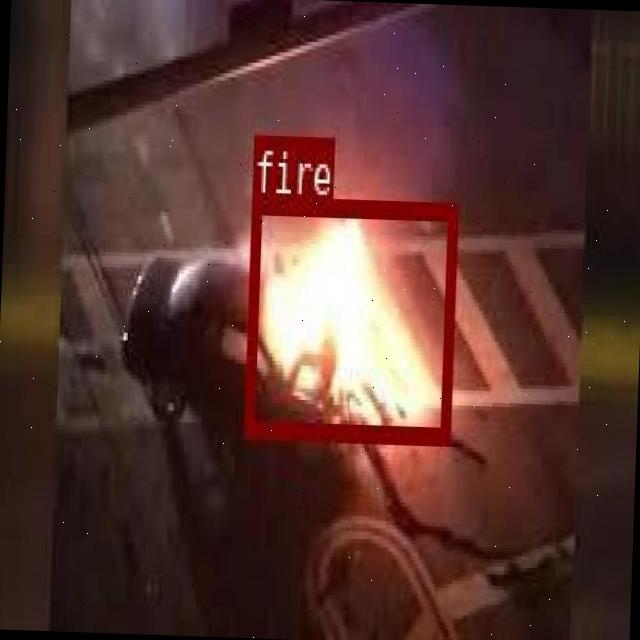fire: (243, 194, 456, 442)
